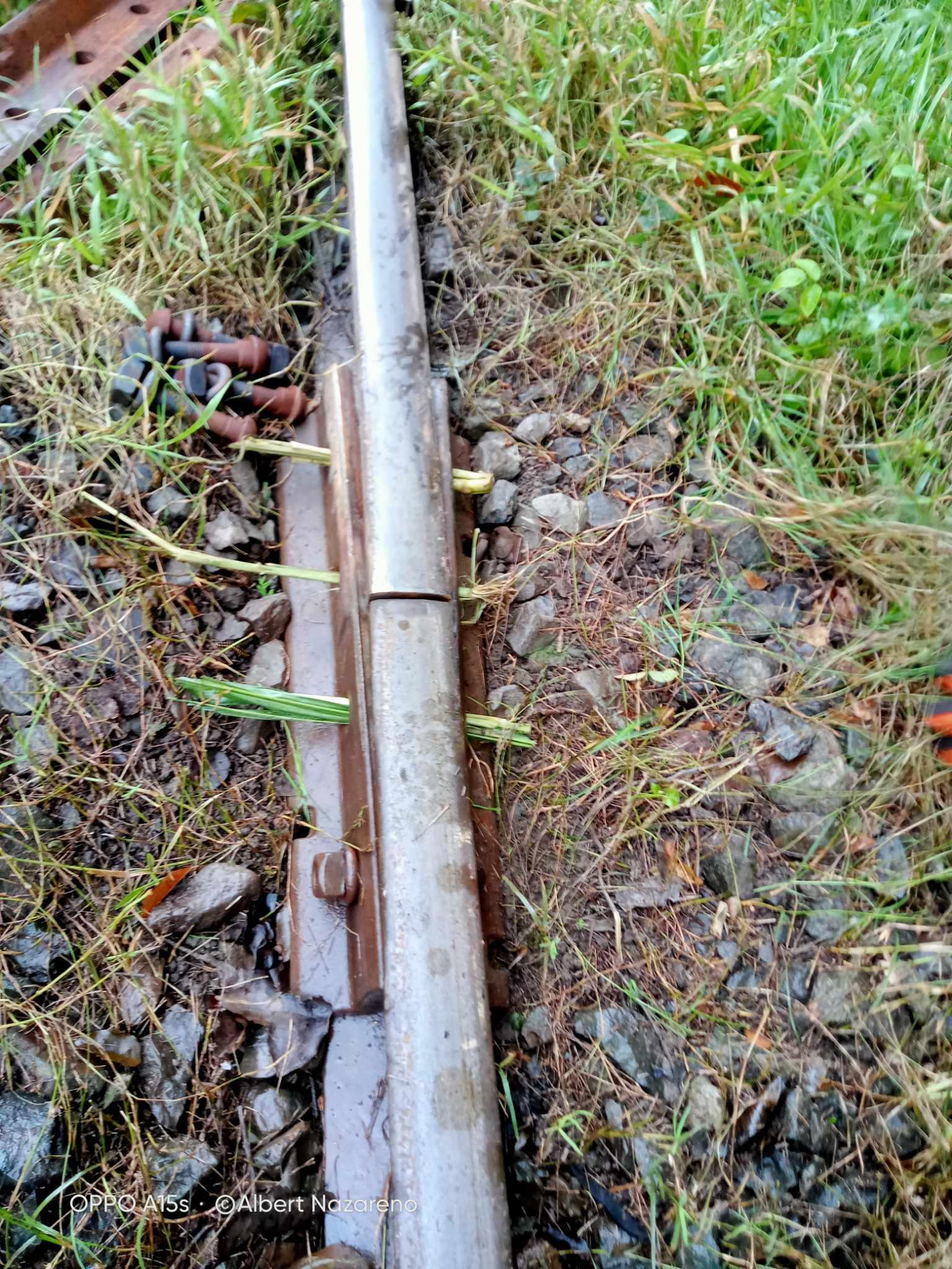railway-gap: (356, 534, 473, 658)
